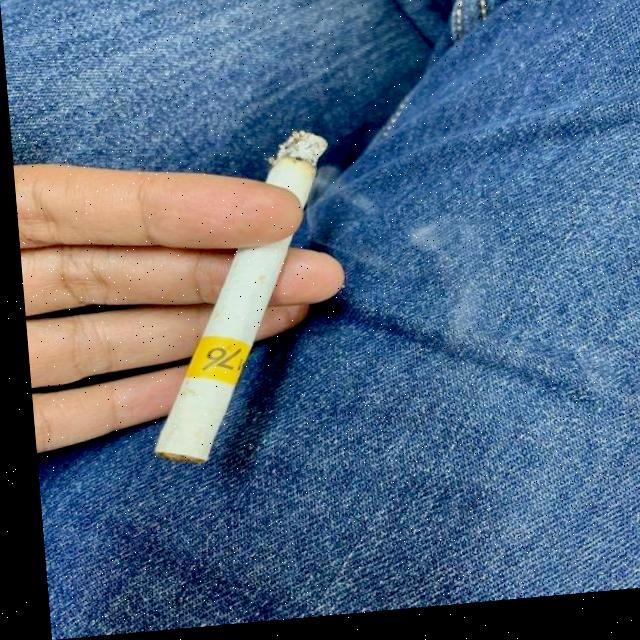cigarette: (126, 141, 343, 471)
